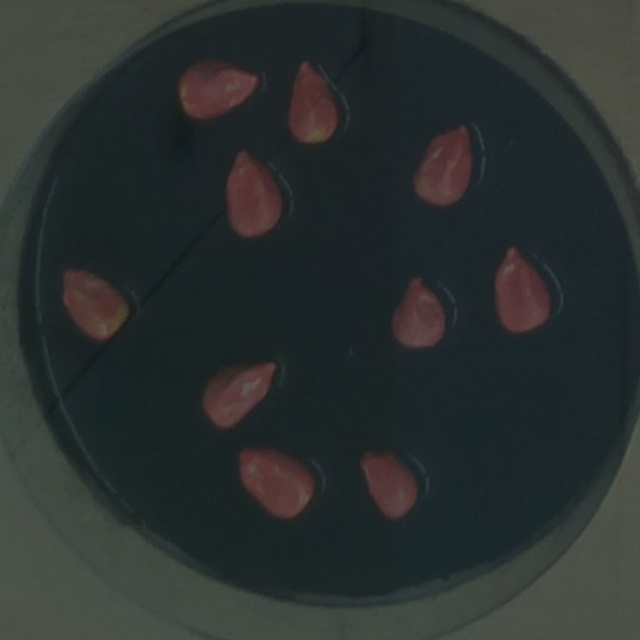Zea mays: (230, 437, 321, 526), (405, 113, 482, 214), (194, 349, 284, 435), (169, 51, 268, 128), (217, 138, 288, 244), (54, 258, 136, 348), (485, 235, 556, 338), (350, 439, 424, 525), (381, 267, 453, 355), (280, 52, 345, 148)
